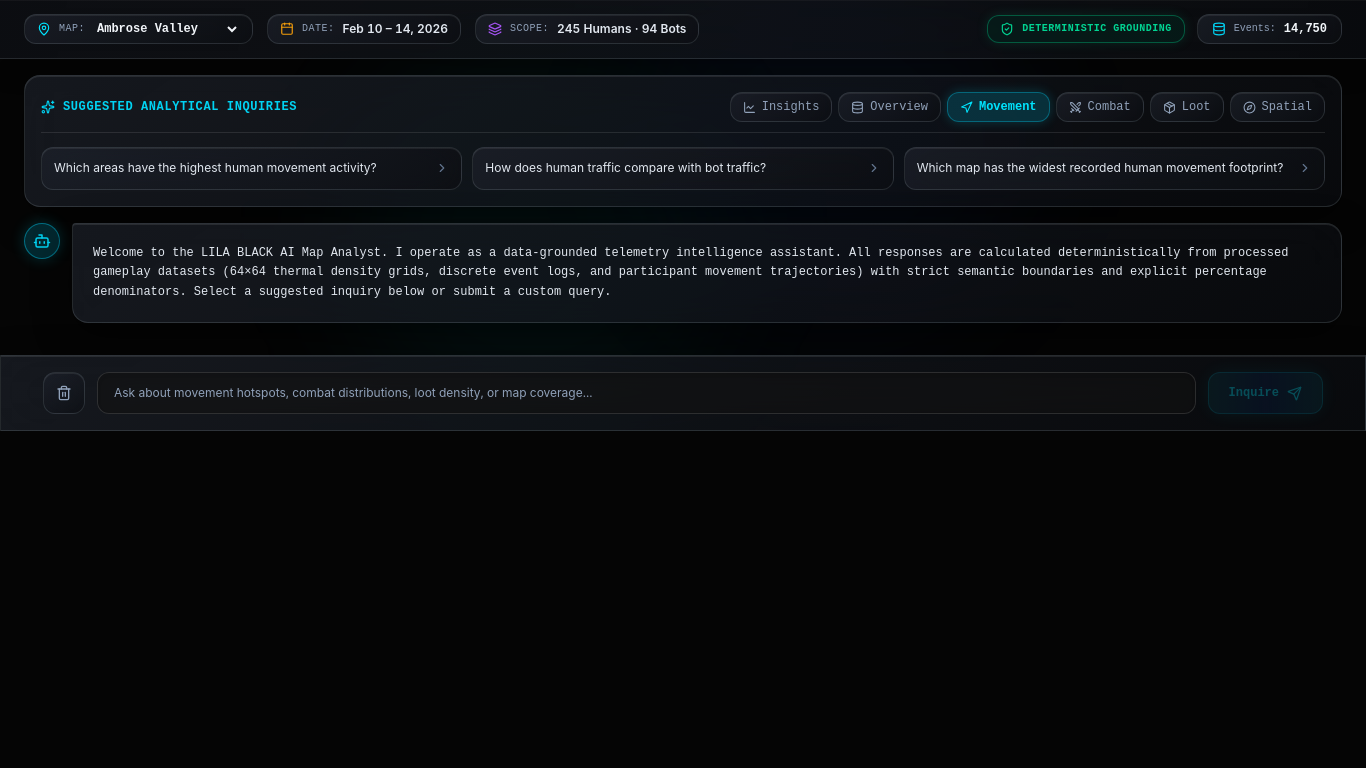
AnalystPage Integration Tests › resets conversation history when clear button is clicked
The width and height of the screenshot is (1366, 768).
Ask a question first
What coordinates should you click on to do the following:
click the button "Which areas have the highest human movement activity?"
I would click on:
 (252, 168)
Its box is [41,147,462,190].
(page scrolled)
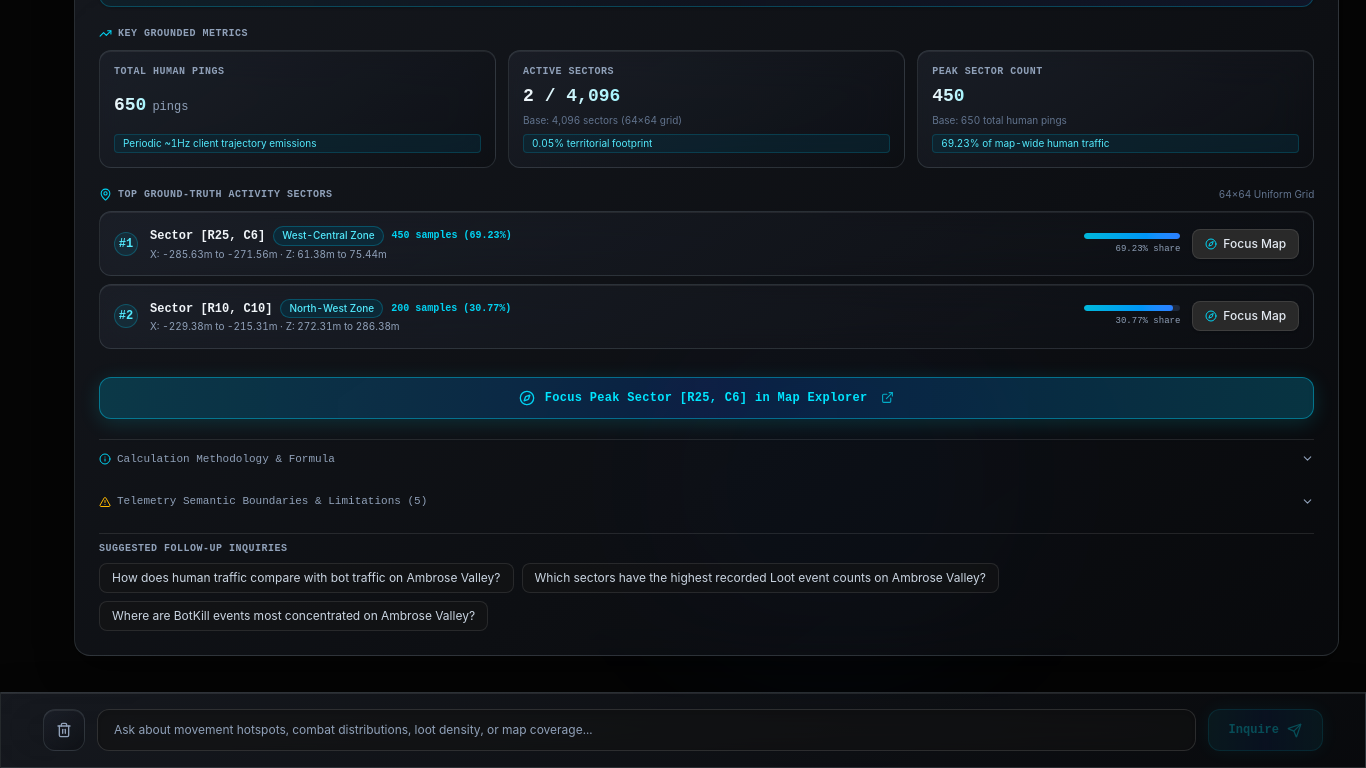
Click clear conversation button
What coordinates should you click on to do the following:
click the button titled "Clear Conversation History"
I would click on:
 (64, 730)
Its box is [43,709,85,751].
(page scrolled)
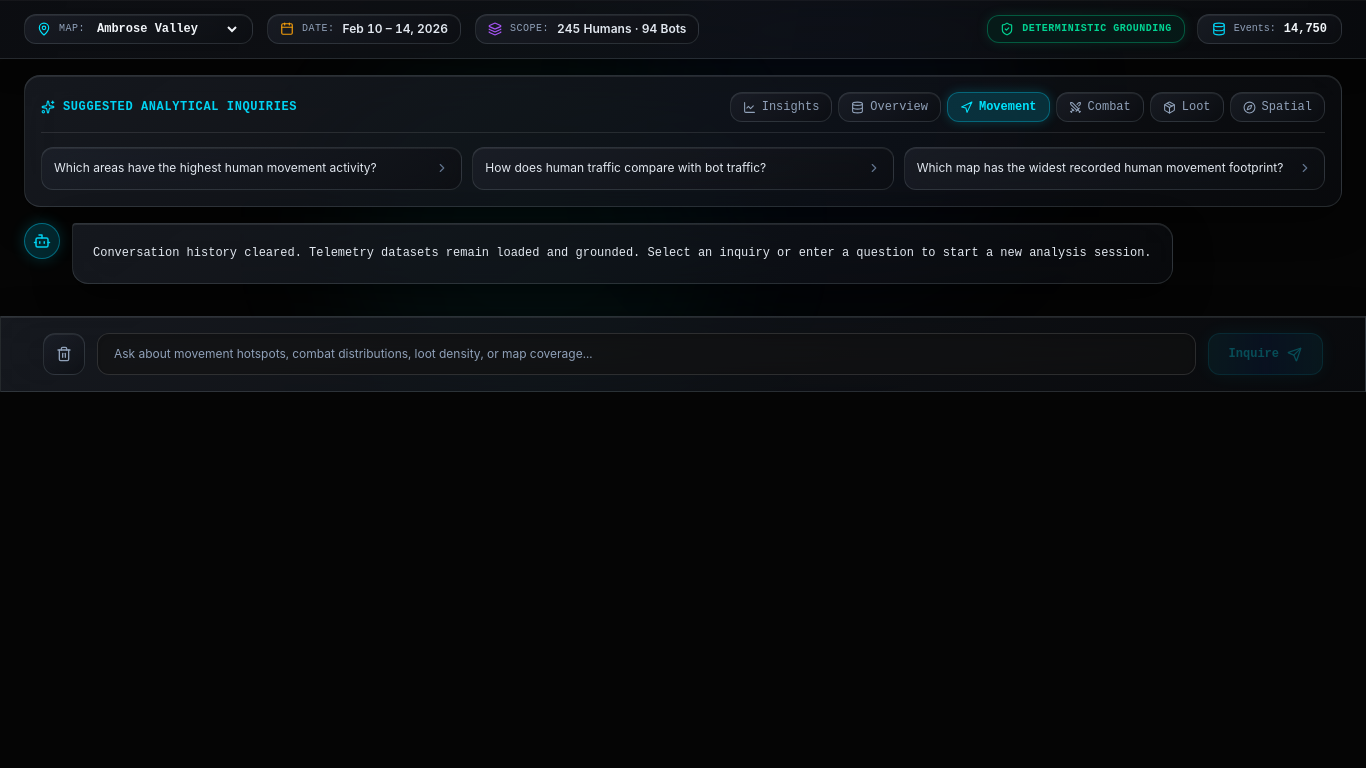
Expected: the text "Conversation history cleared" is shown, [93,246,1152,260]
